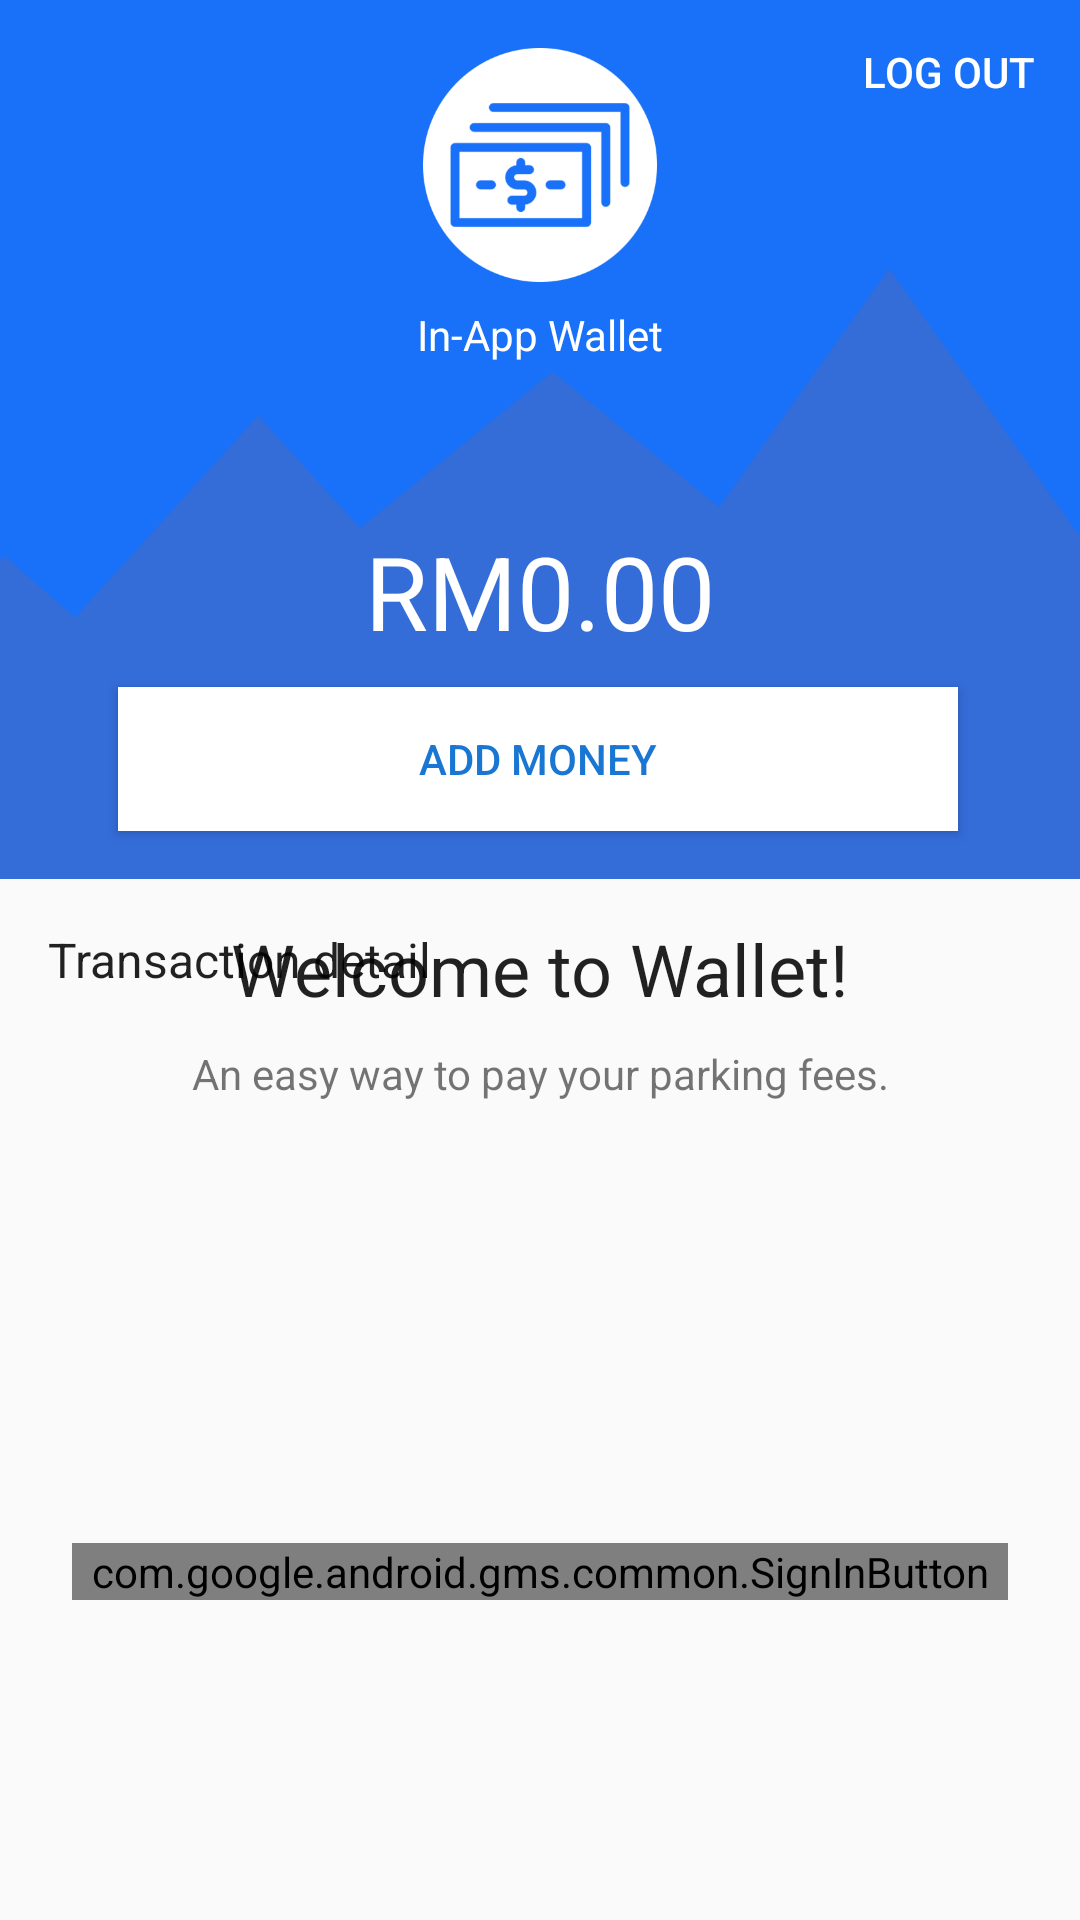

Icon click points for this 1080x1920 phone screenshot, format [x,y]:
cash: [540,165]
